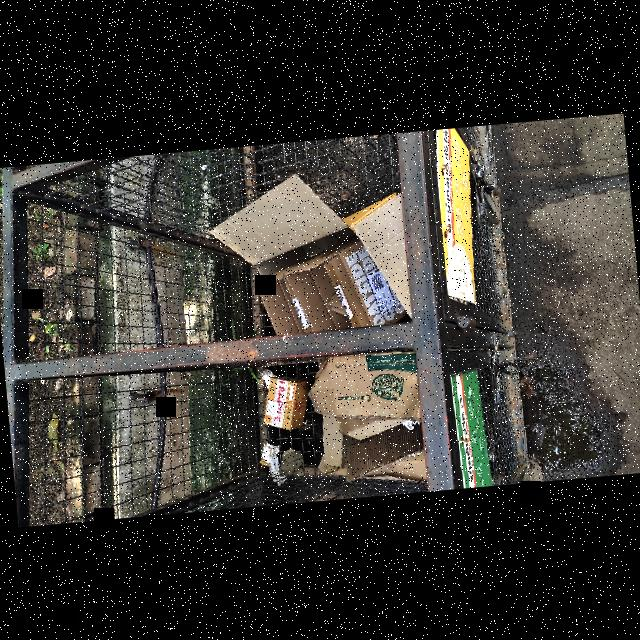cardboard_box: (210, 156, 412, 338), (306, 348, 422, 491), (282, 238, 400, 334), (254, 260, 308, 340), (253, 368, 305, 440)
scrap_paper: (258, 440, 288, 488), (259, 370, 277, 392)
